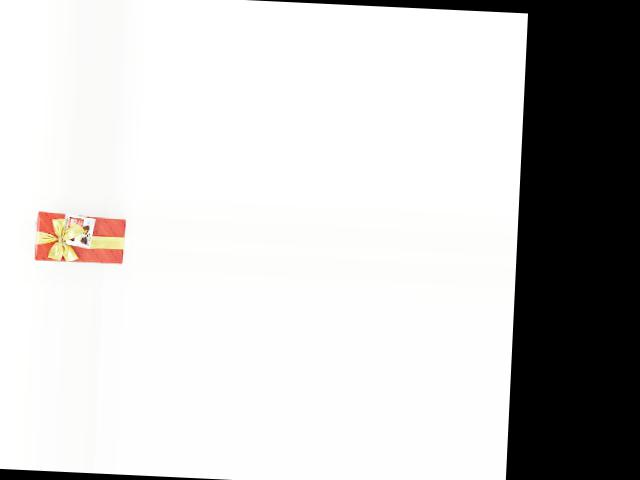chocolate: (31, 211, 124, 268)
